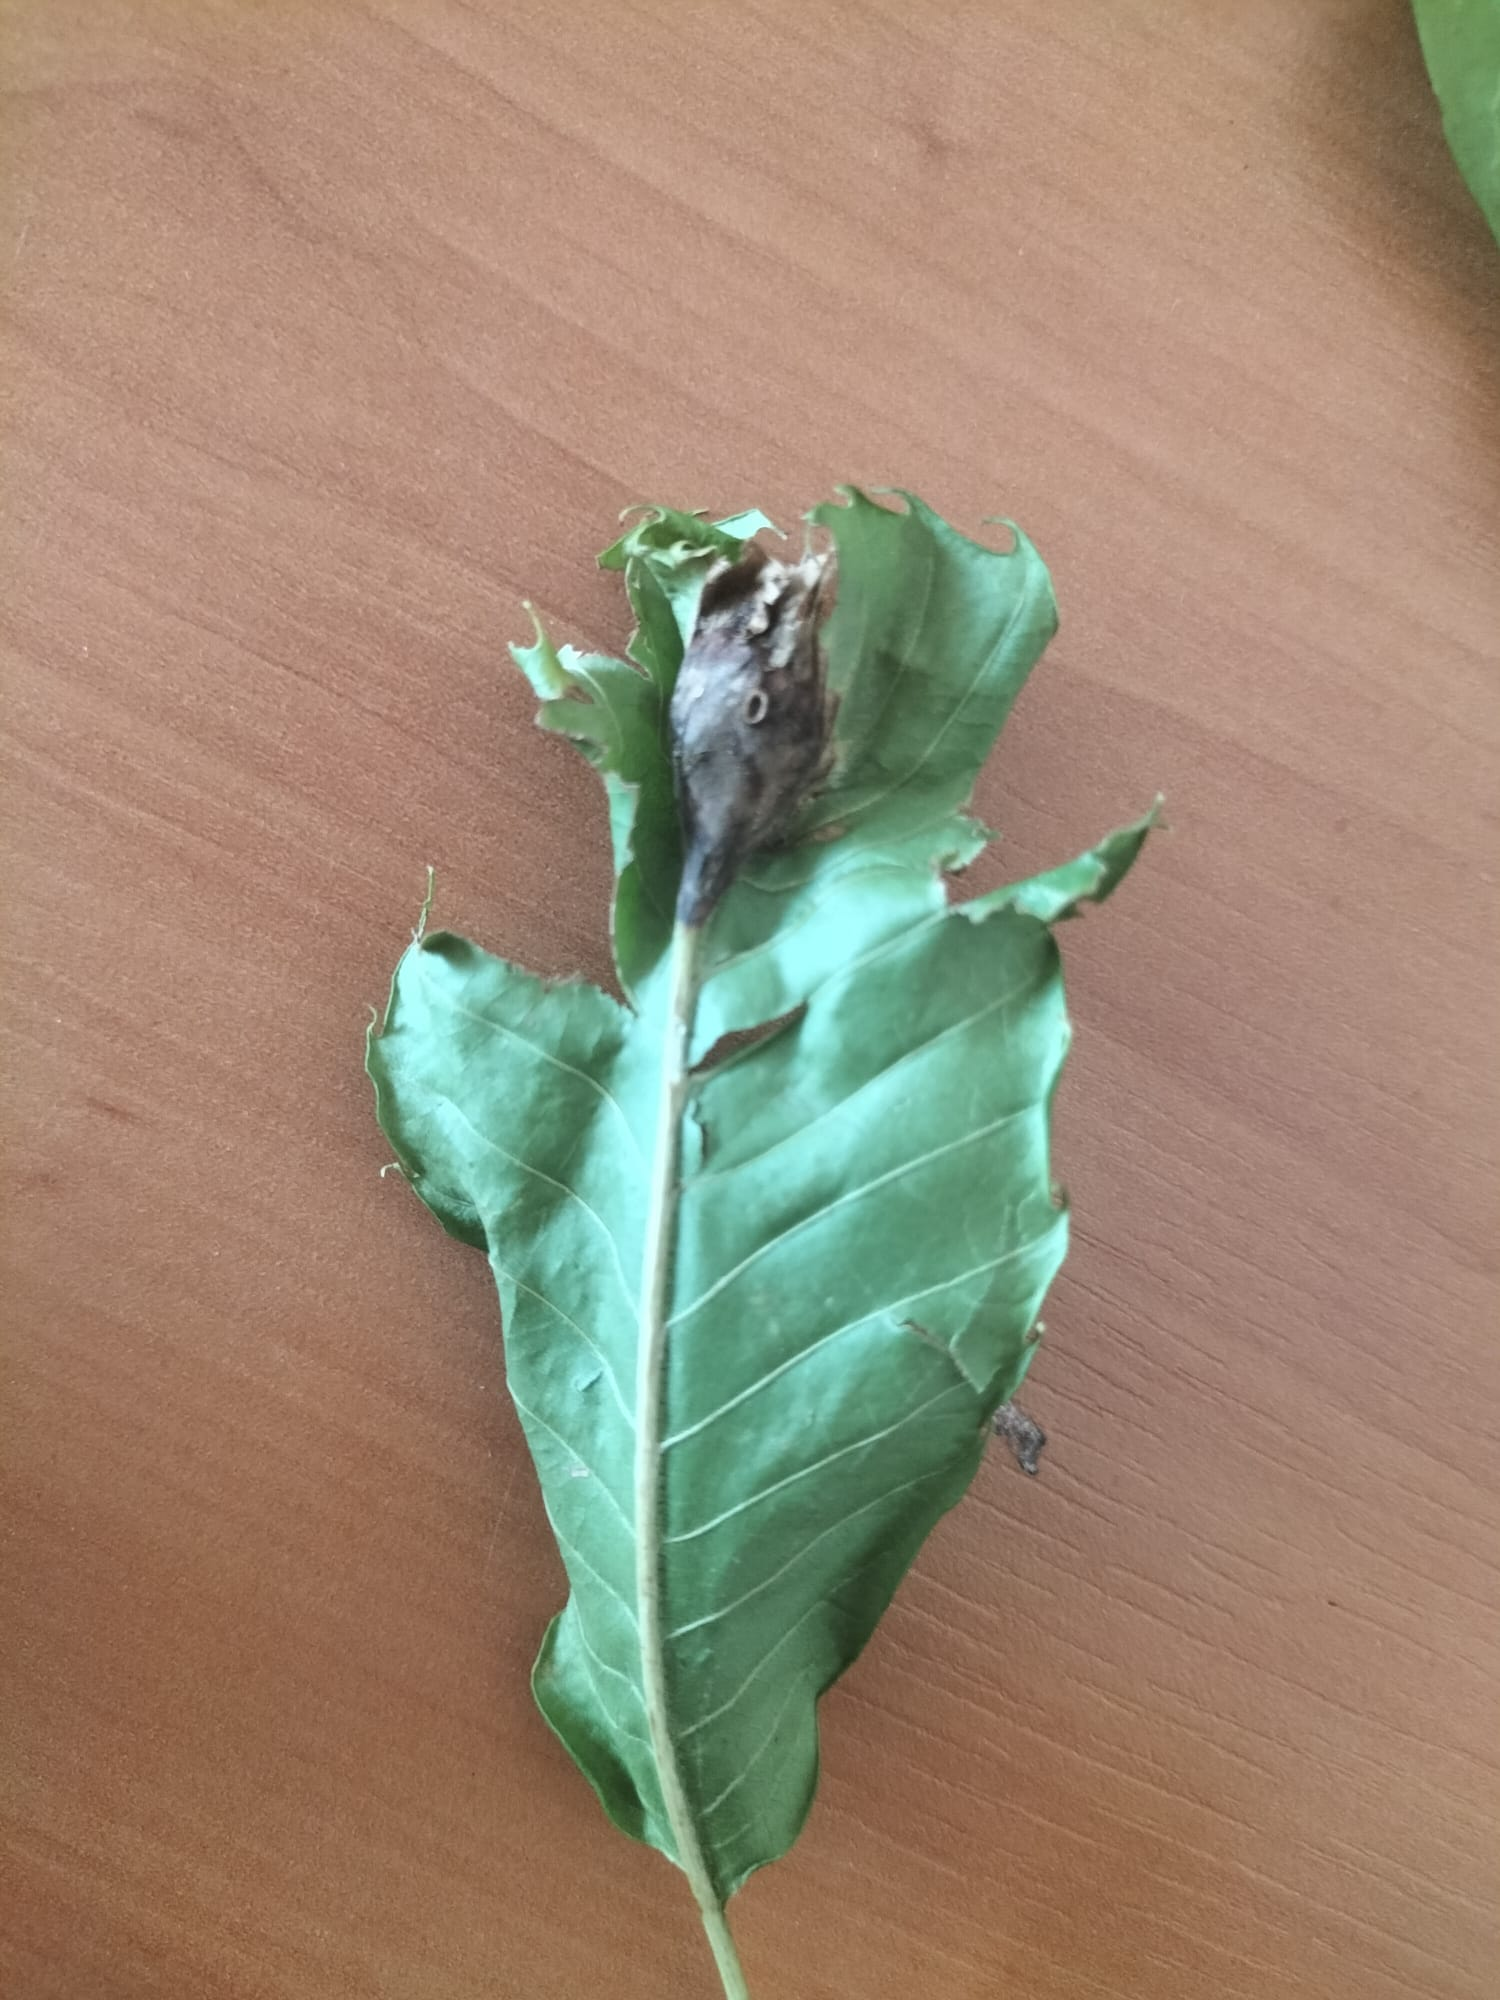galarisi: (523, 510, 982, 1315)
